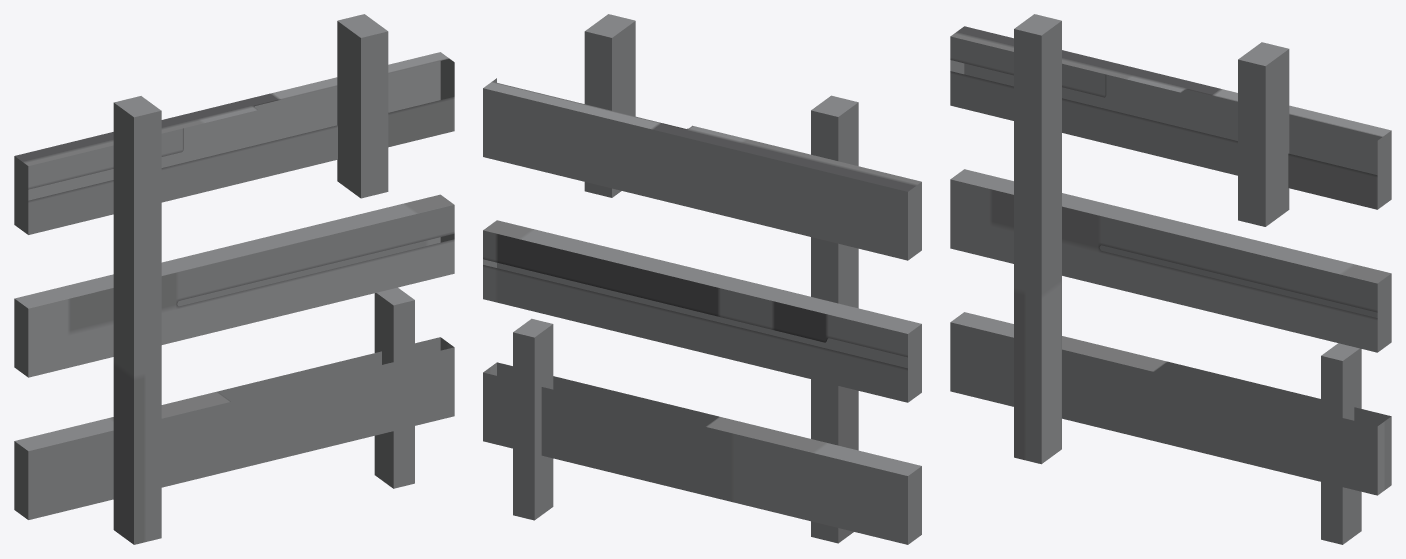
3 renders of one model, left to right at view 1: azimuth 30°, elevation 25°; view 2: azimuth 150°, elevation 25°; view 3: azimuth 330°, elevation 25°, orthographic.
Bounding box in the file's own units: 0.9798 × 1.06 × 0.1745.
